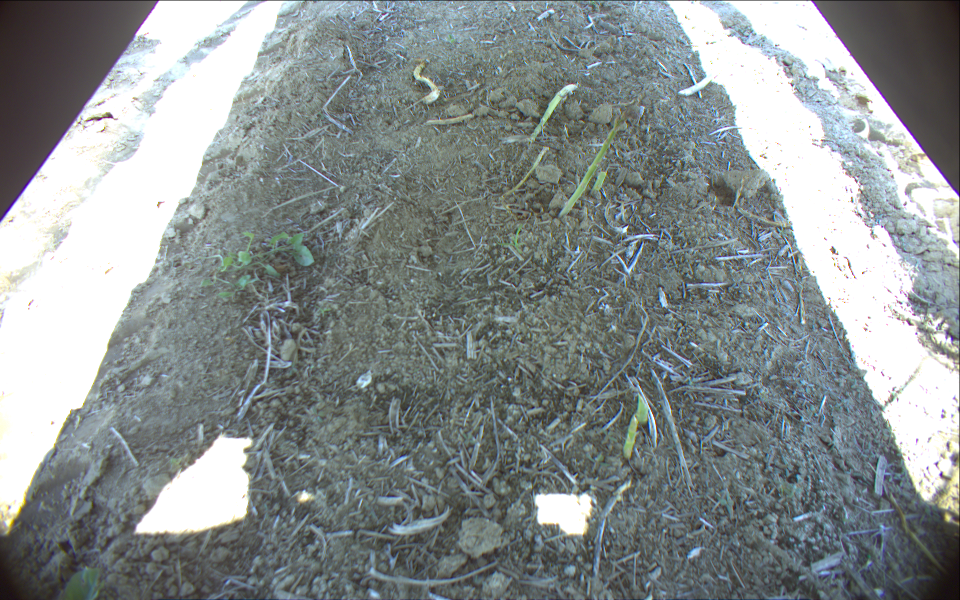aspa: (558, 109, 631, 218), (680, 48, 736, 97), (500, 148, 550, 202), (532, 84, 578, 139), (413, 58, 437, 104), (625, 414, 638, 457), (593, 169, 608, 195), (638, 392, 648, 426)
